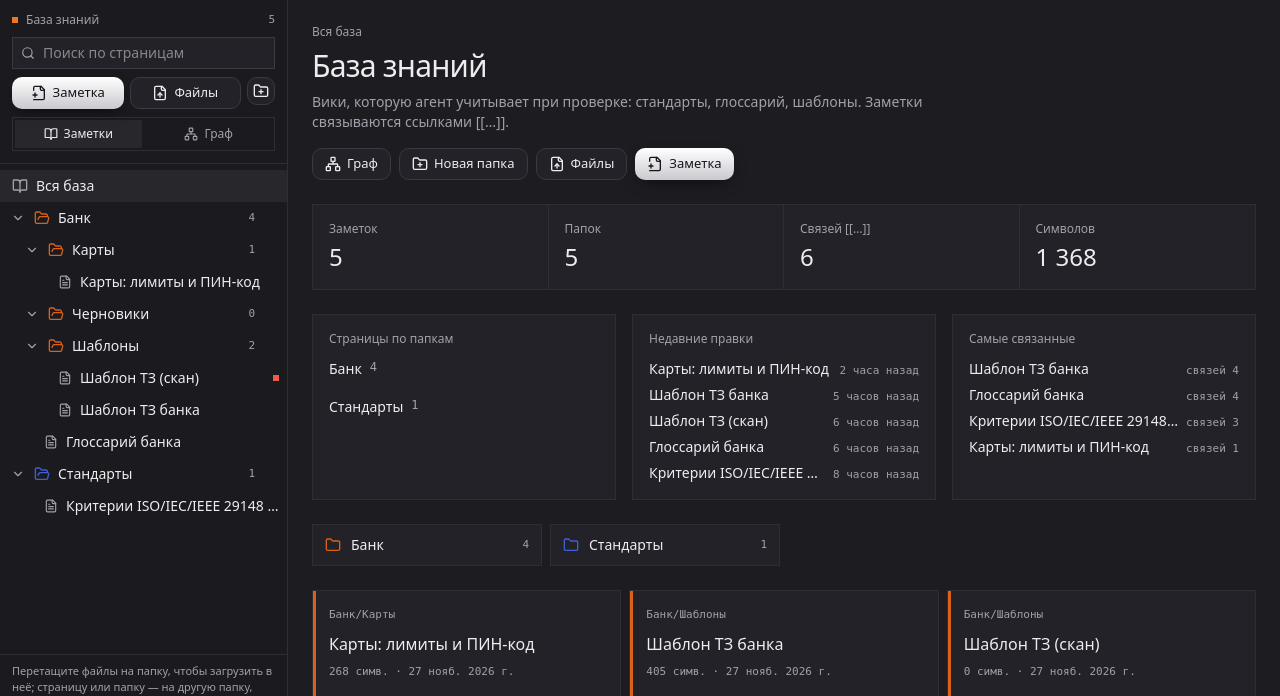
it: Knowledge wiki › shows a note rendered from markdown with its links and backlinks
Click the button "Глоссарий банка". click: {"x": 144, "y": 442}
box: [0, 426, 287, 458]
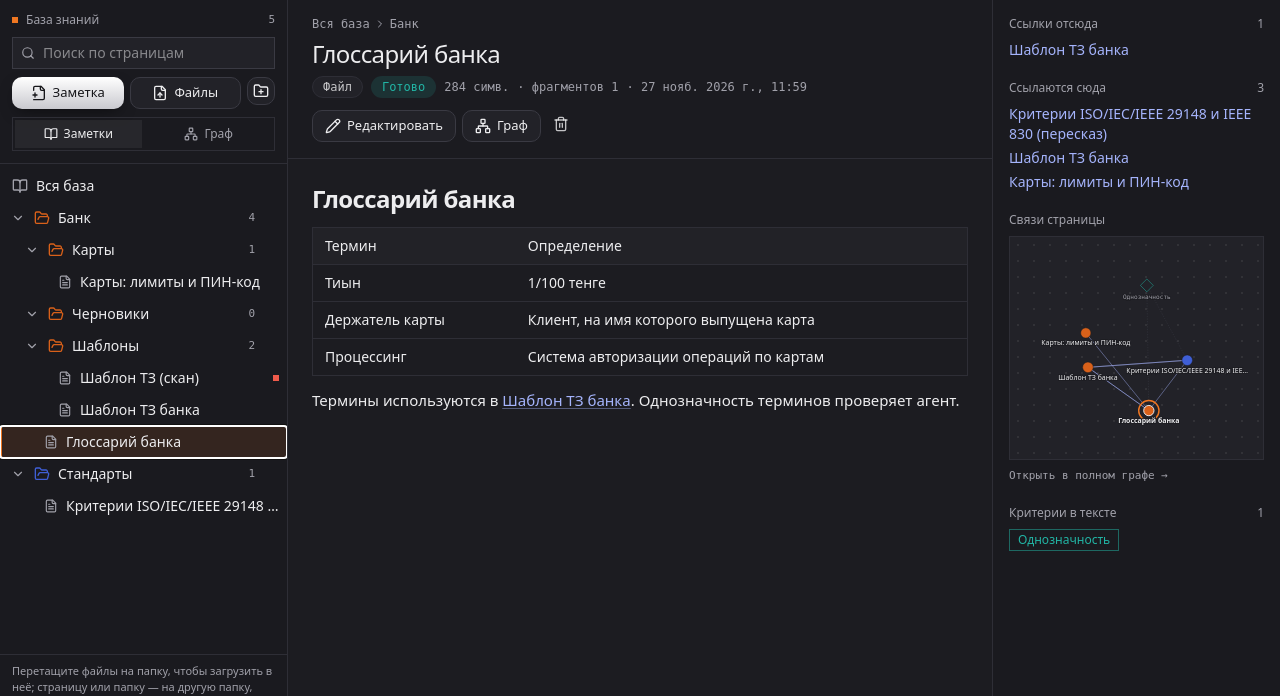
Result: the 1st heading "Глоссарий банка" is shown at [312, 37, 500, 70]
Result: the cell "1/100 тенге" is shown at [516, 264, 967, 302]
Result: the button "Шаблон ТЗ банка" below "Ссылаются сюда" is shown at [1009, 148, 1129, 168]
